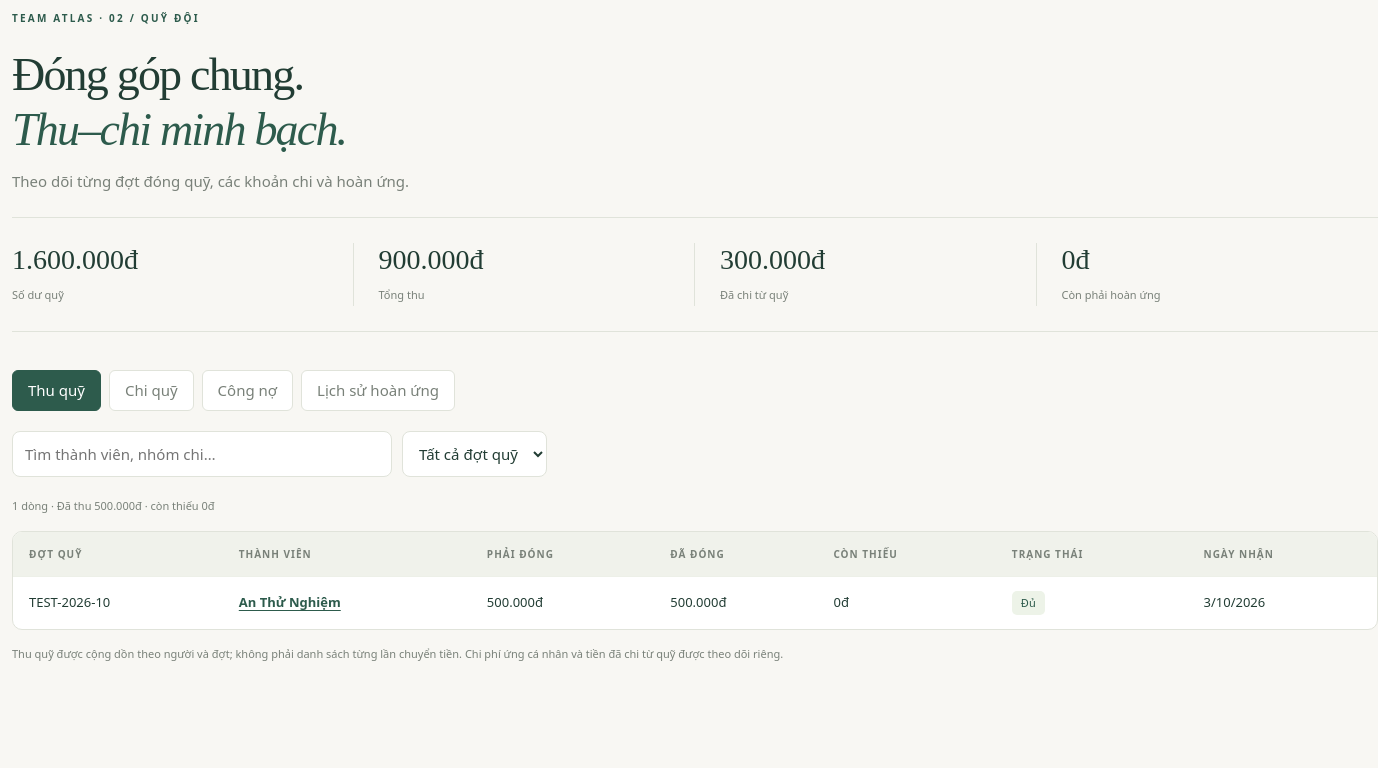
Test: FinancePage › filters expenses by month
The width and height of the screenshot is (1378, 768).
Click the button "Chi quỹ" at (151, 390), box [109,370,194,411]
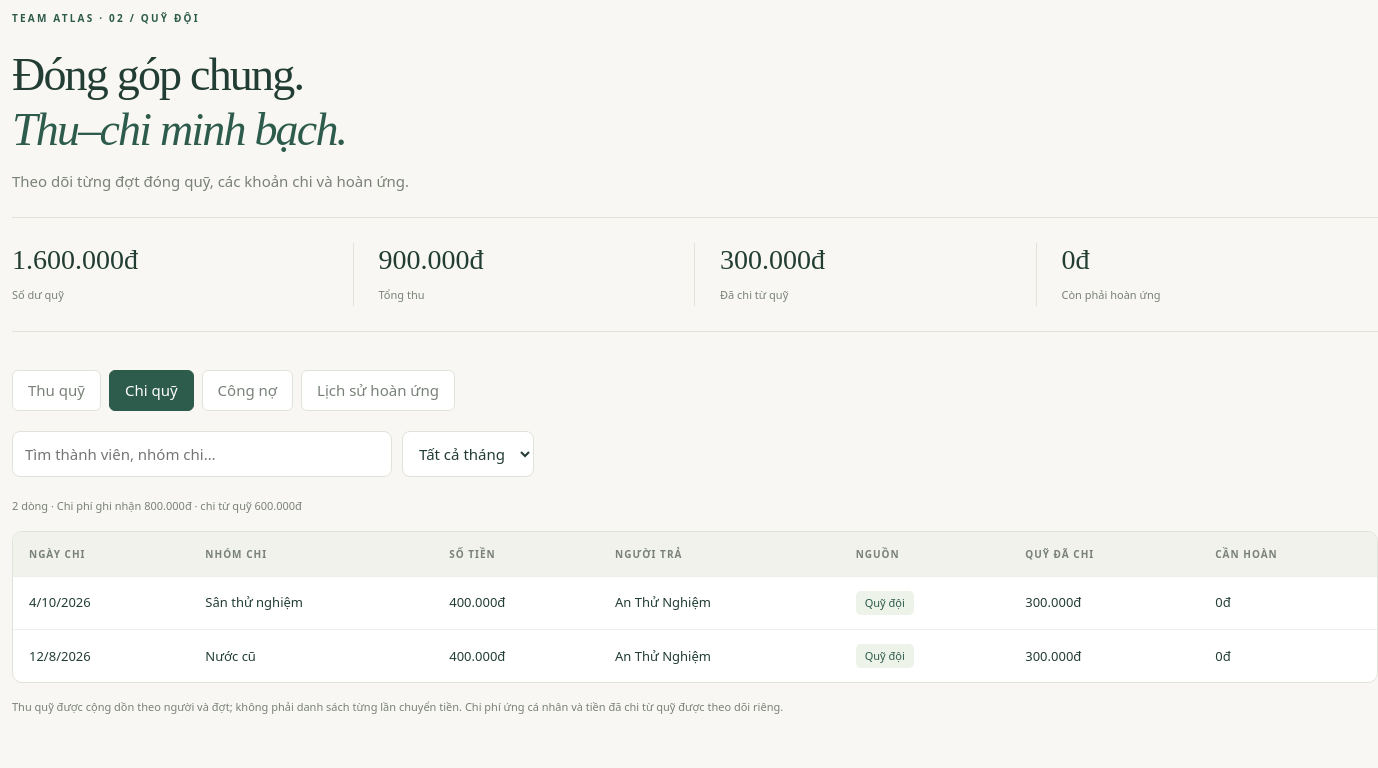
Select "2026-08" in the dropdown named "Lọc tháng" at (468, 454), box [402,431,534,478]
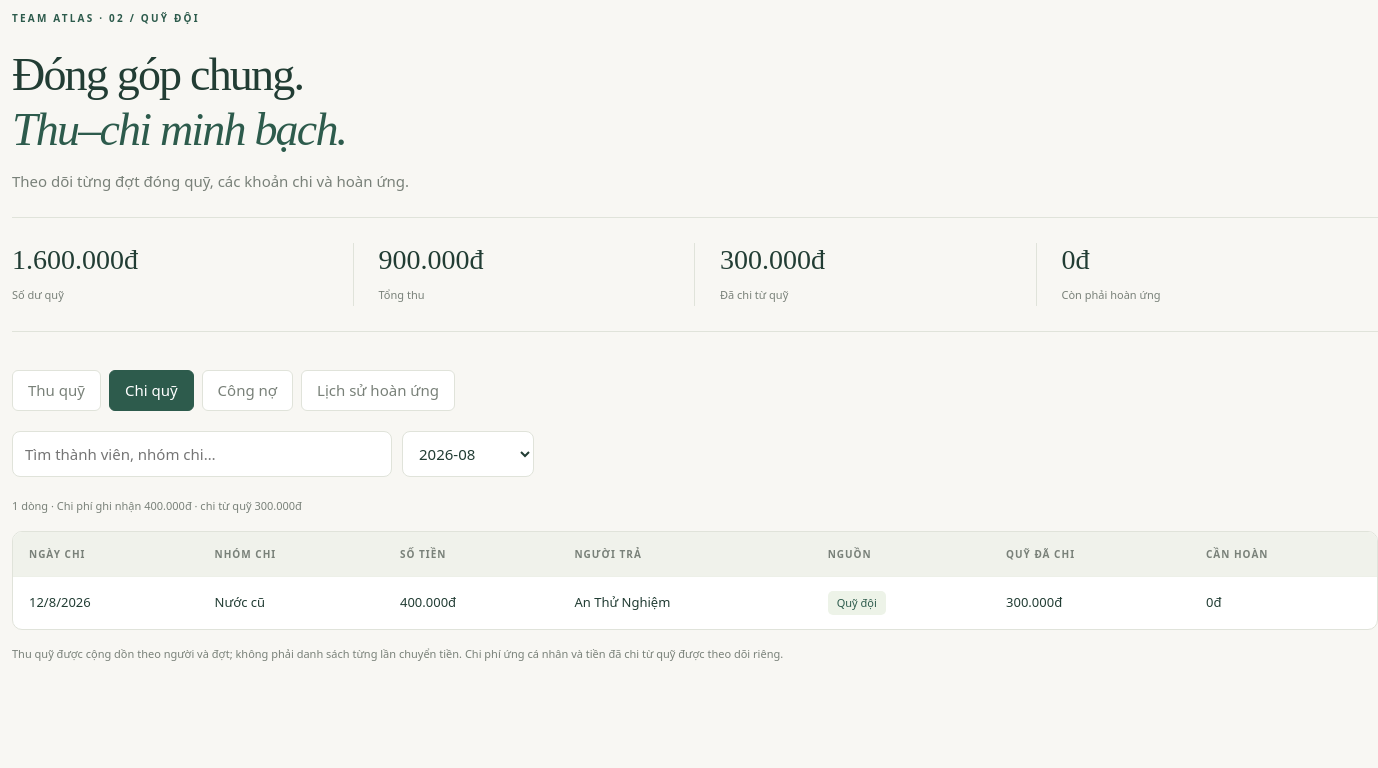
Expected: the text "Nước cũ" is shown, [198,577,384,629]
Expected: the text "Sân thử nghiệm" is gone
